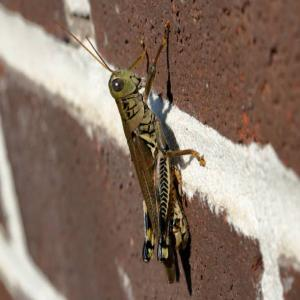locust: (80, 25, 208, 267)
